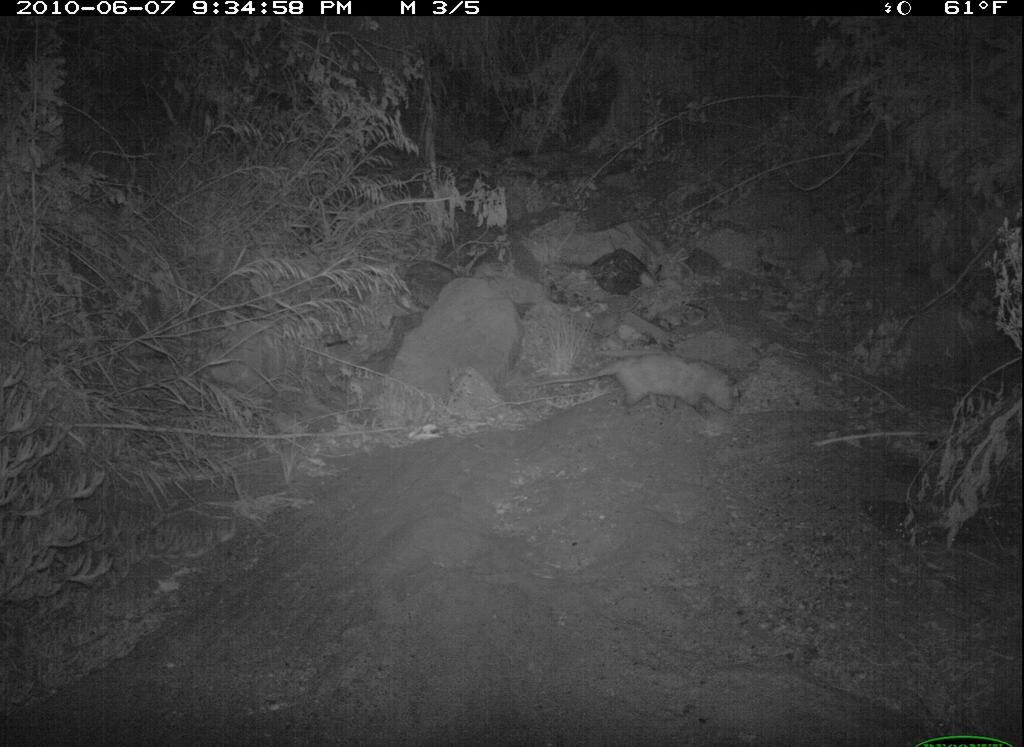opossum: (523, 346, 745, 442)
